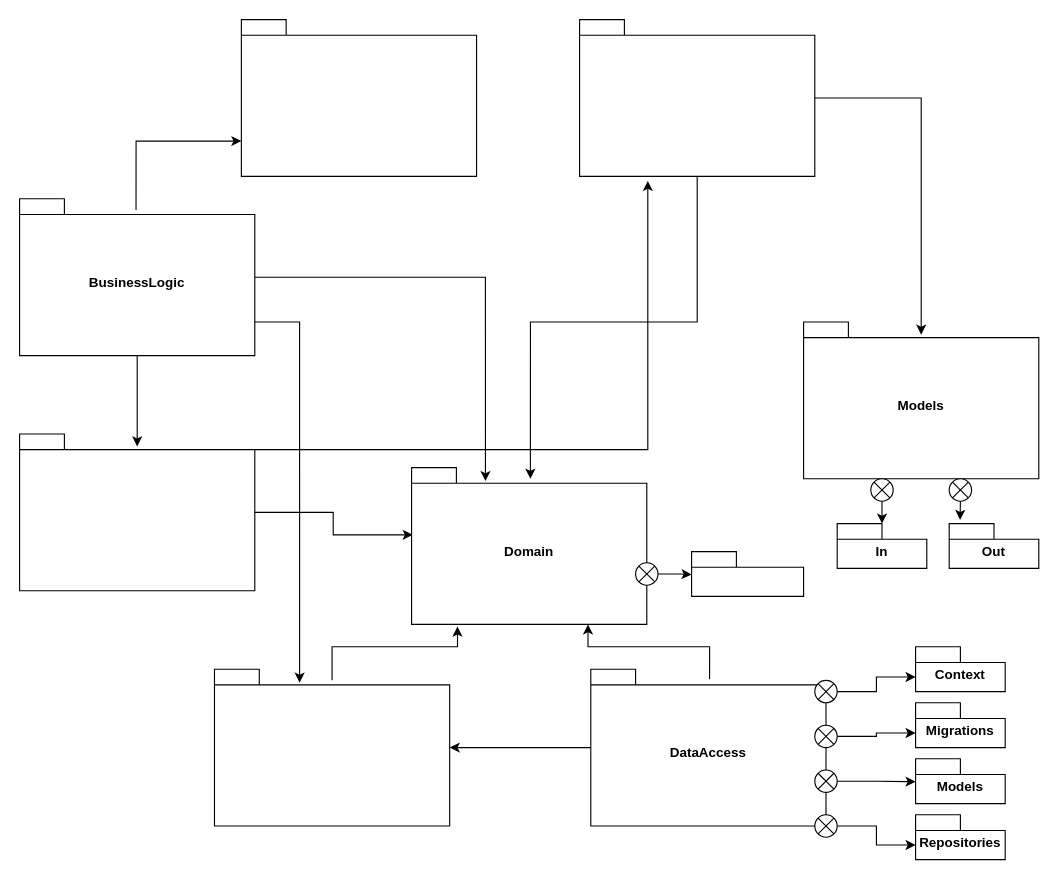
Some shapes in this 1058 by 879 pixel diagram are drawn without their labels. The shapes that lost their labels are listed below. From the top down, each one's centre as x and y in pixels, then its label:
At point (358, 97): "Exceptions".
At point (696, 97): "WebApi".
At point (136, 512): "IBusinessLogic".
At point (747, 573): "SearchCriterias".
At point (331, 747): "IDataAccess".
